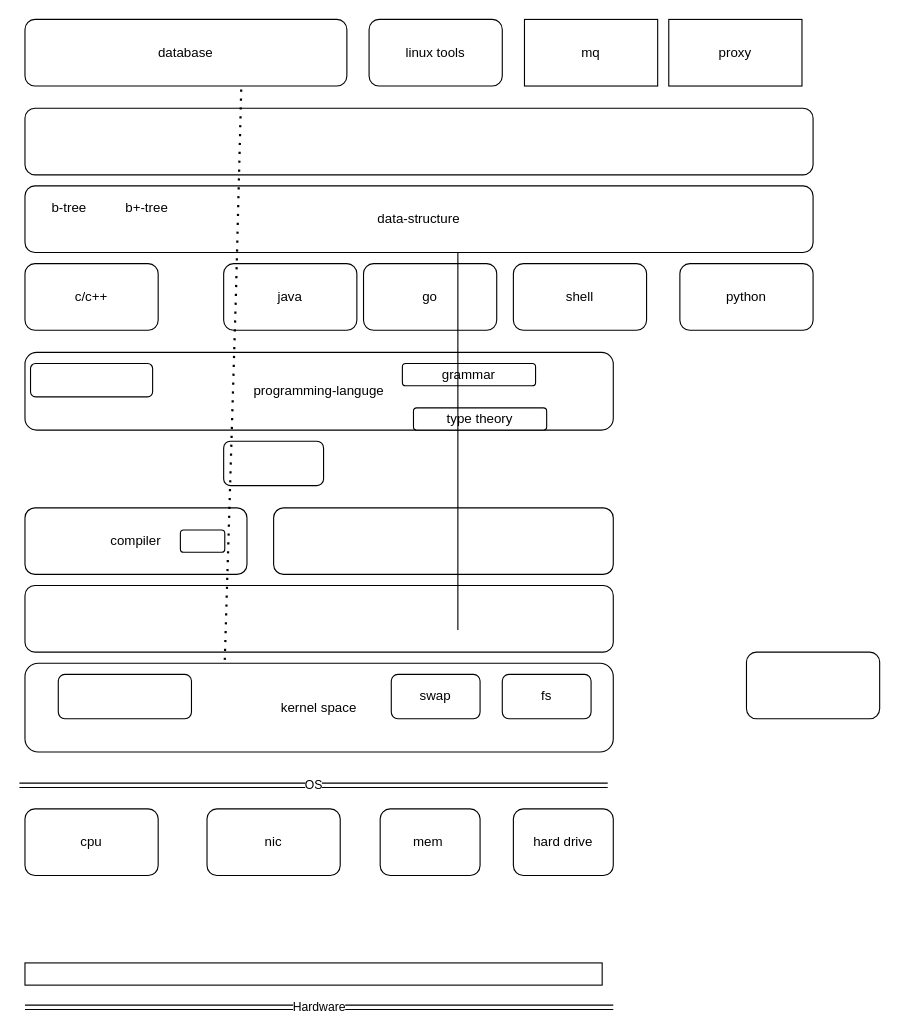
Some shapes in this 899 by 1033 pixel diagram are drawn without their labels. Each missing label, with the centre of its shape:
"algorithm" belongs at (418,141).
"interpreter" belongs at (443,540).
"JIT" belongs at (202,540).
"jvm" belongs at (273,463).
"master board" belongs at (313,973).
"tcp/ip stack" belongs at (124,696).
"type system" belongs at (91,379).
"user space" belongs at (318,618).
